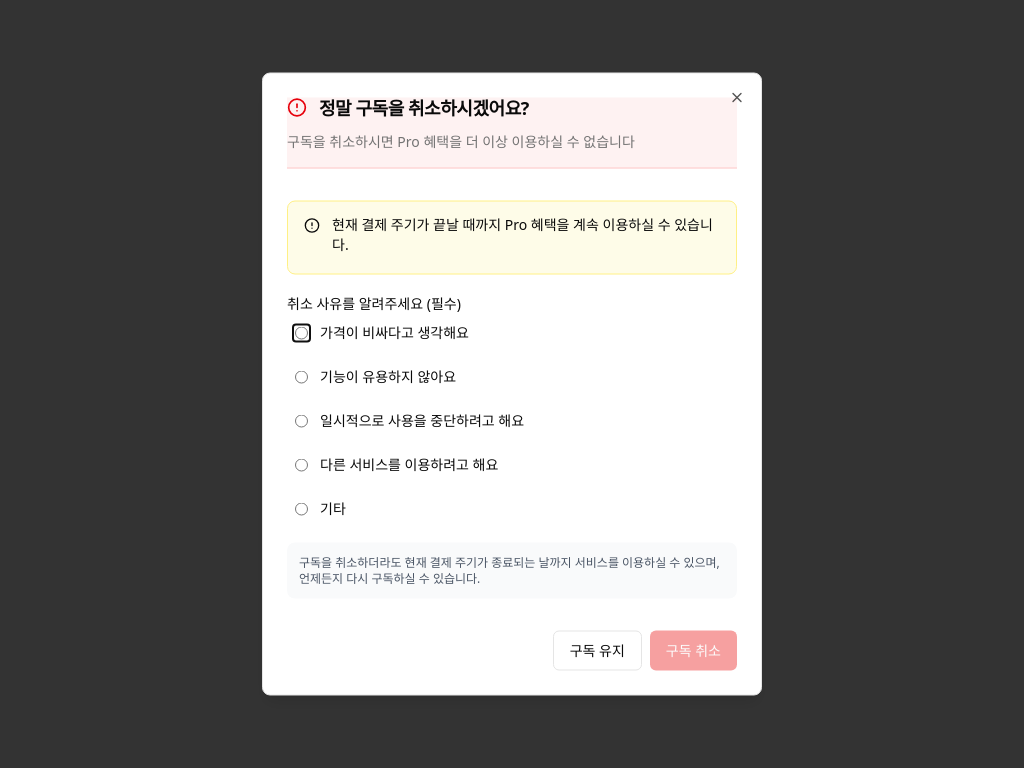
CancelSubscriptionModalContainer - Integration › UI 상태 관리 › should show loading state during cancellation
Click the radio button labelled "기능이 유용하지 않아요".
click(302, 376)  # box 295,370 -> 308,383
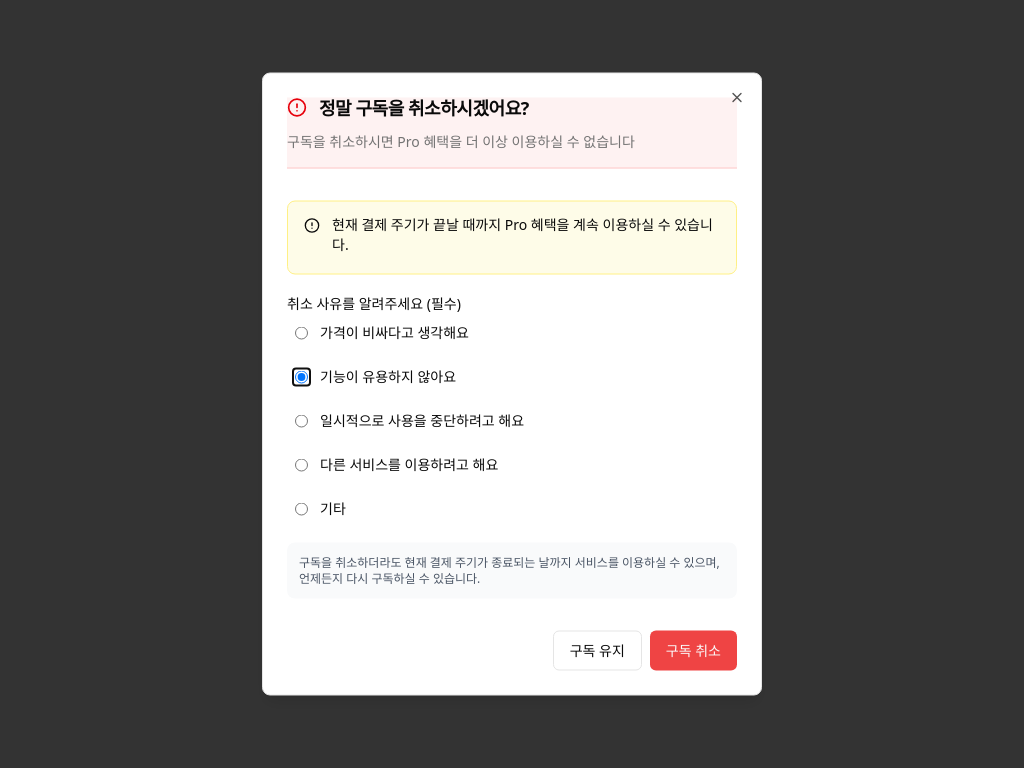
Click the button "구독 취소".
click(693, 650)  # box 650,630 -> 737,670
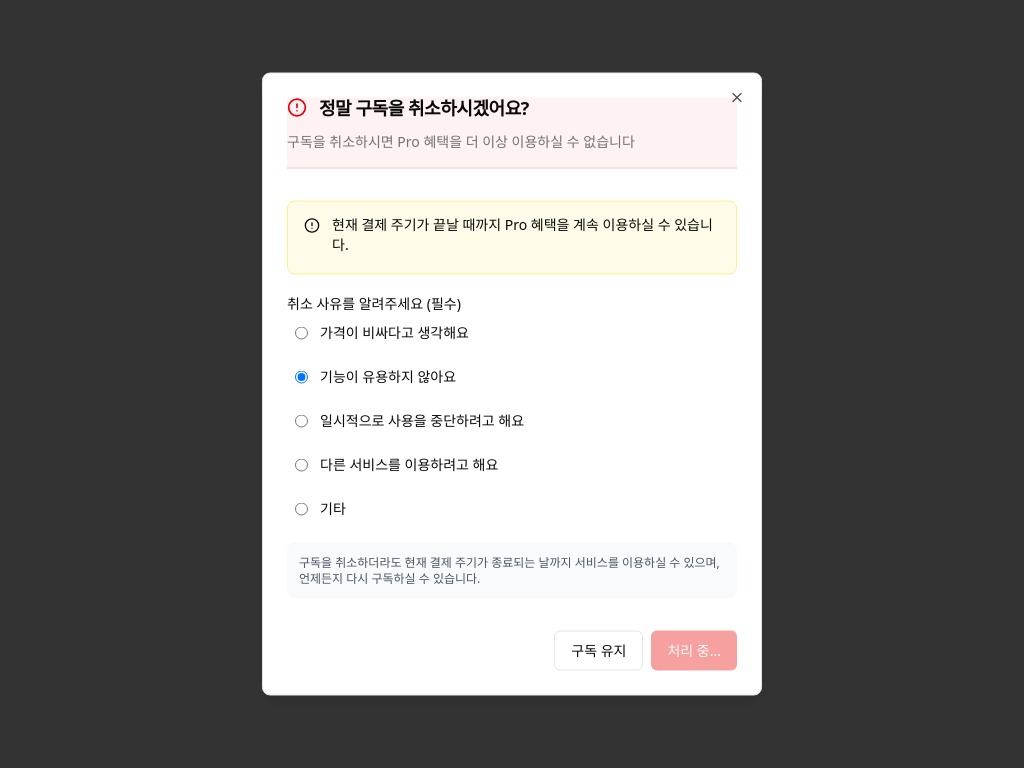
Check: the button "처리 중..." is disabled, box 652,630 -> 737,670
